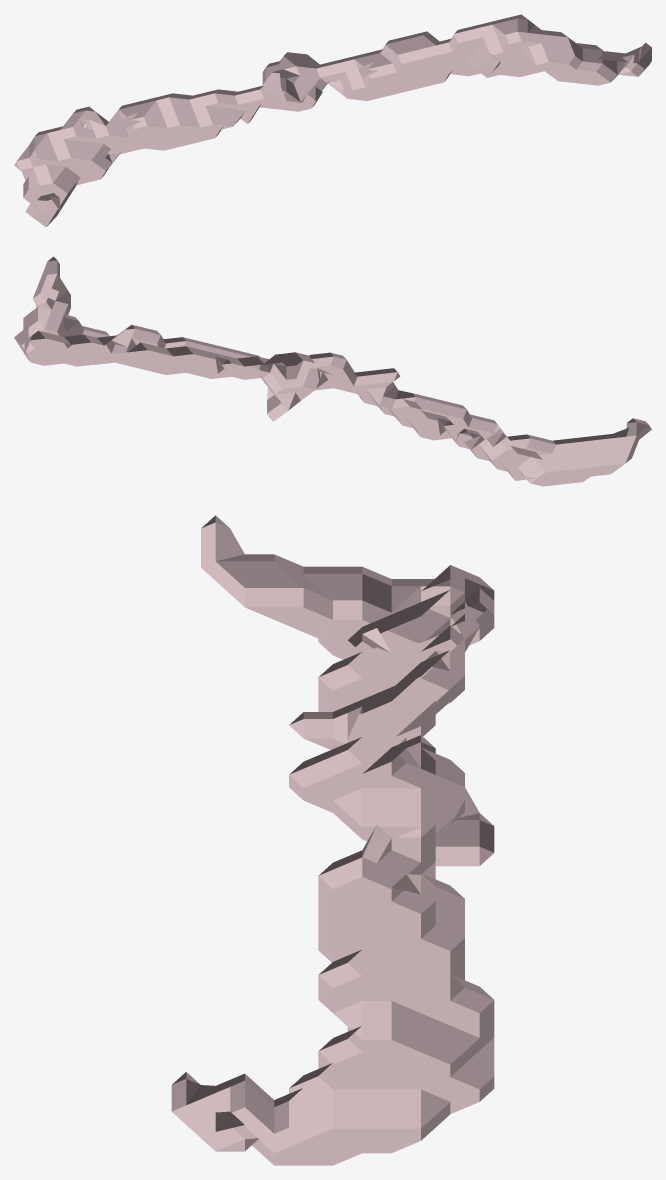
File: region_0122_PR__posterior_recess_of_diencephalic_ventricle_.glb
3 views of the same model, one above another, from view 1: azimuth 30°, elevation 25°; view 2: azimuth 150°, elevation 25°; view 3: azimuth 270°, elevation 25° (orthographic). The views are drawn at different scales.
Visible parts, largest first — view 1: world; view 2: world; view 3: world.
Boxes of the visible parts, box(x1,y1,x2,y2) form: world: box(14, 14, 651, 227); world: box(14, 256, 651, 486); world: box(171, 515, 494, 1165).
Bounding box in the file's own units: 0.384 × 0.04 × 0.088.
